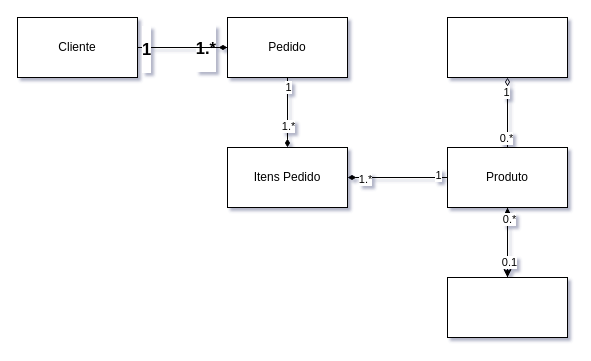
Image size: 591x361. Some labels were removed from this diagram. Each missing label, with the centre of its shape:
"Categoria" belongs at (x=507, y=47).
"Fornecedor" belongs at (x=507, y=307).
